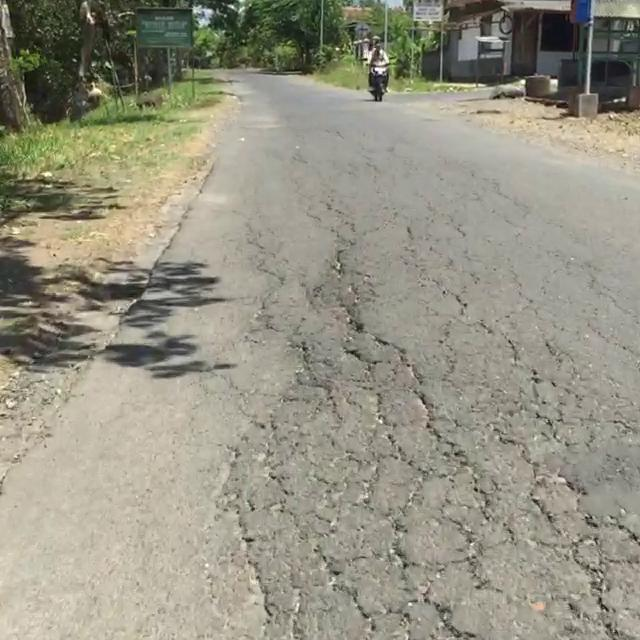retak_kulit_buaya: (212, 224, 640, 640)
